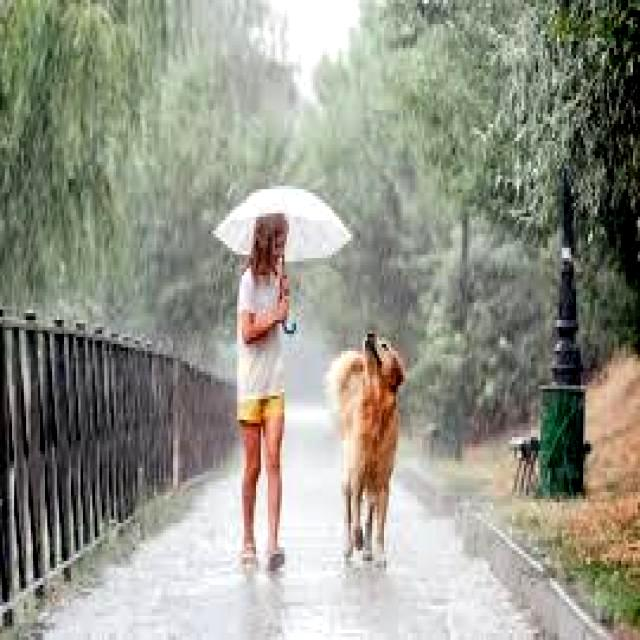civilian: (213, 209, 307, 574)
dog: (316, 322, 420, 584)
